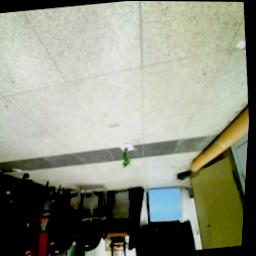herb: (121, 147, 136, 169)
